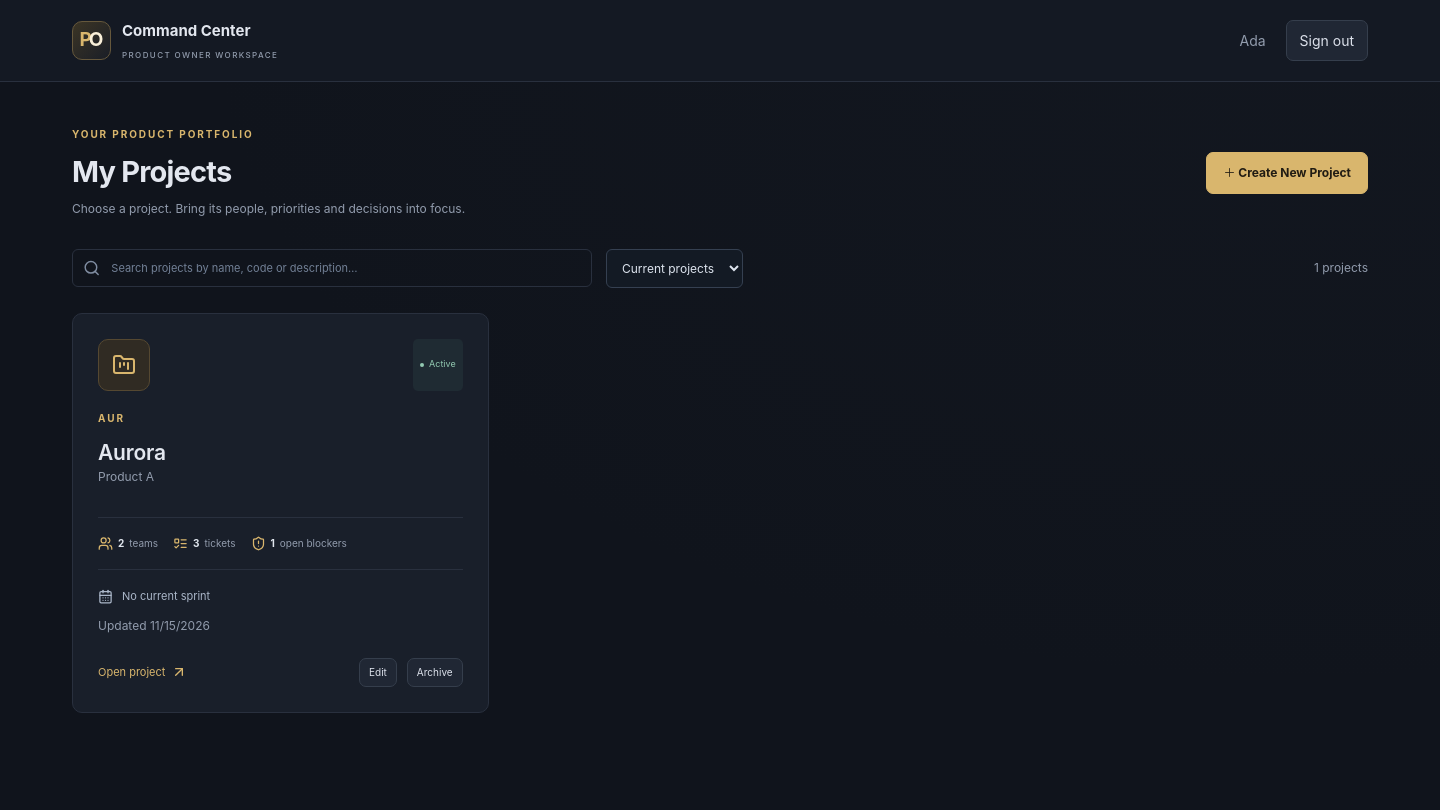
it: Project and custom team interface › lets a PO open and validate project creation
Click the button "＋ Create New Project" at (1287, 173), box [1206,152,1368,194]
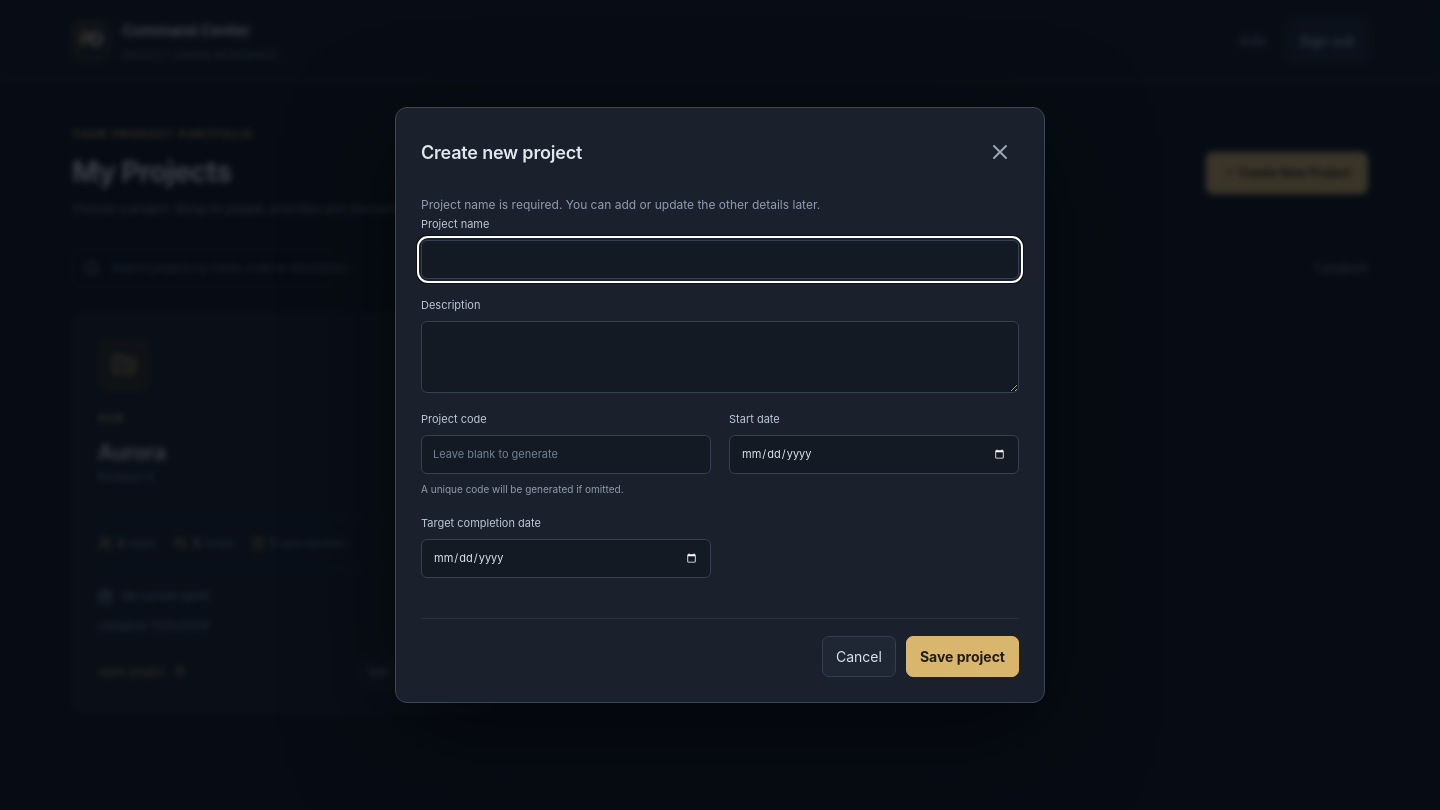
Click the button "Save project" at (962, 656), box [906,636,1019,677]
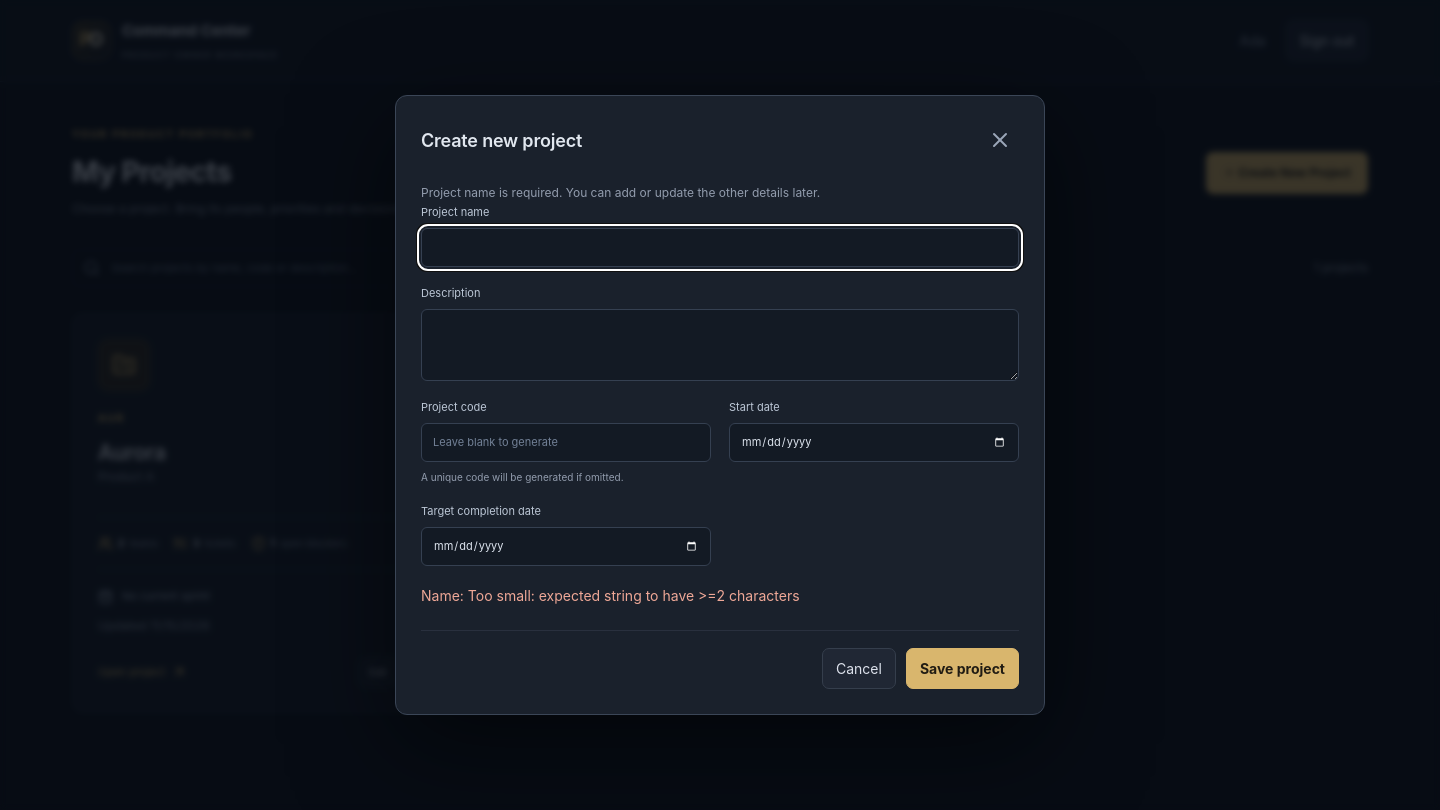
Now the message shows "Name", box [421,587,460,604]
